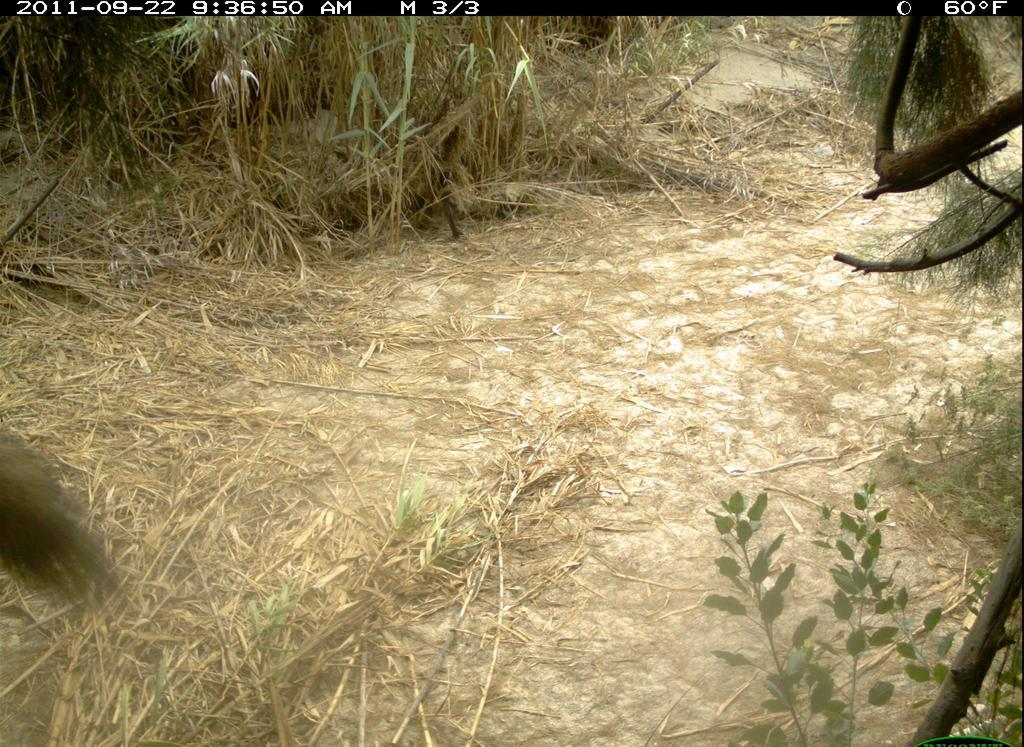coyote: (2, 396, 132, 641)
